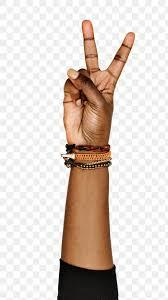peace_sign: (57, 11, 139, 147)
